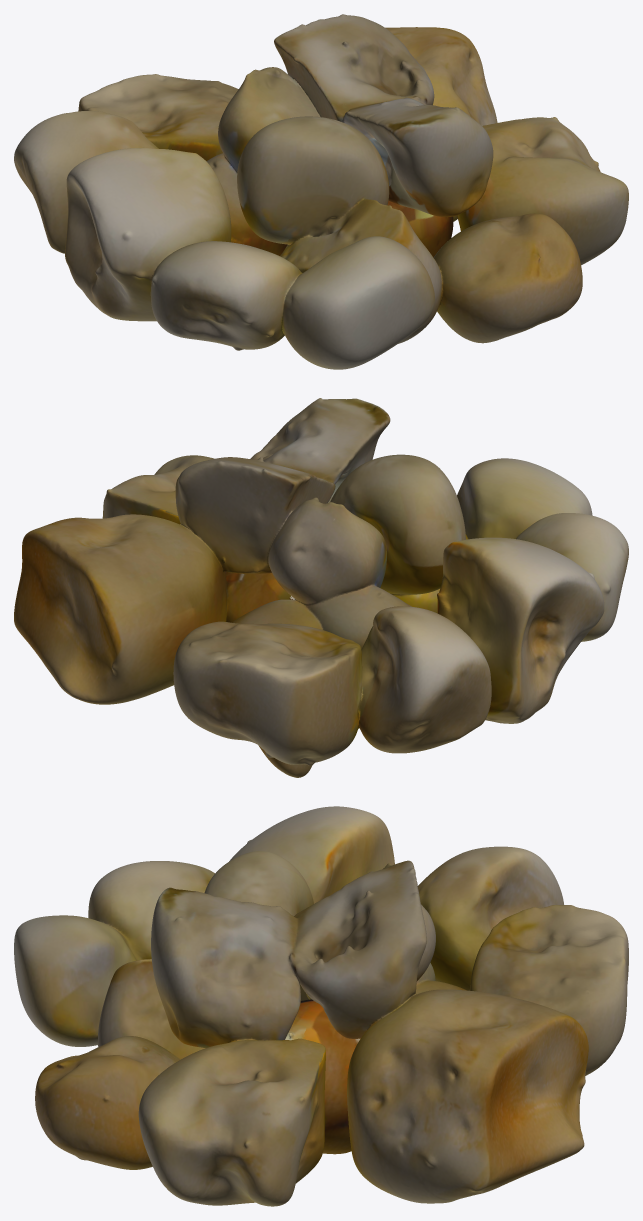
File: kerupuk_kulit_revisi.fbx
The picture shows the model from 3 angles, top to bottom: view 1: azimuth 30°, elevation 25°; view 2: azimuth 150°, elevation 25°; view 3: azimuth 270°, elevation 25°; orthographic projection. The views are drawn at different scales.
Visible parts, largest first — view 1: tripo_node_0ca97bca; view 2: tripo_node_0ca97bca; view 3: tripo_node_0ca97bca.
Boxes of the visible parts, x1,y1,x2,y2 form: tripo_node_0ca97bca: [14, 14, 628, 369]; tripo_node_0ca97bca: [14, 398, 628, 777]; tripo_node_0ca97bca: [14, 806, 628, 1206].
Size of the model in its own units: 100 by 55.06 by 97.31.
1 material, 1 textured.
